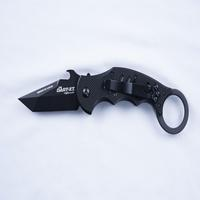knife: (13, 58, 200, 137)
